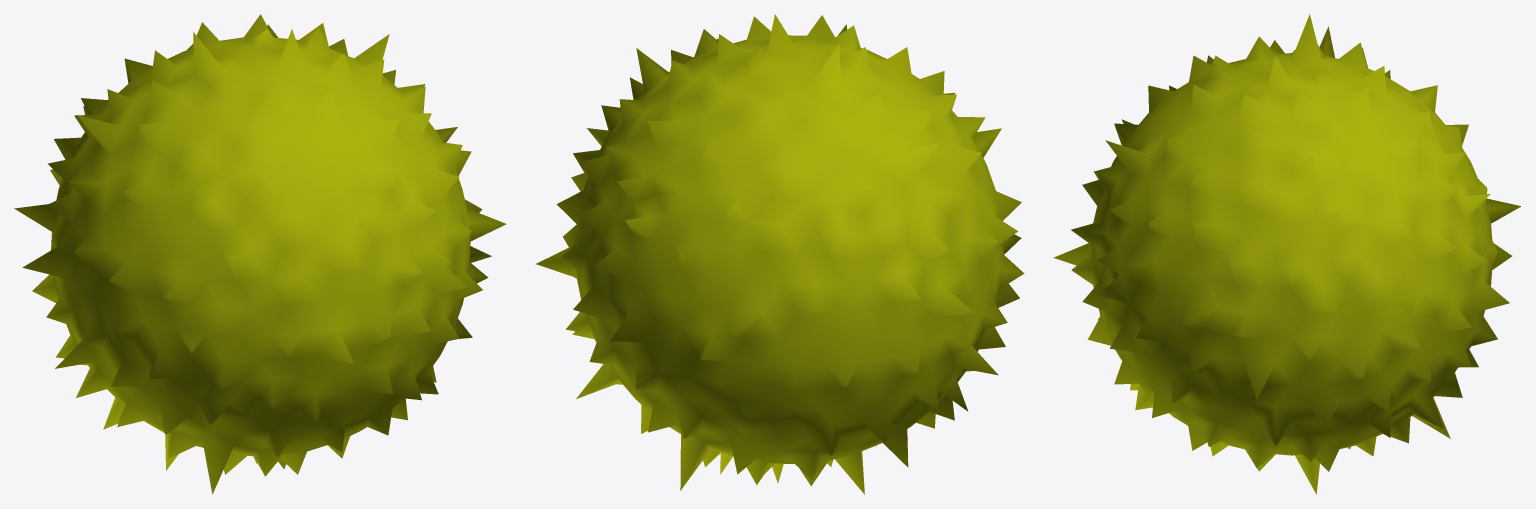
Rendered from ClosedChestnut02.fbx.
3 renders of one model, left to right at view 1: azimuth 30°, elevation 25°; view 2: azimuth 150°, elevation 25°; view 3: azimuth 270°, elevation 25°, orthographic. The views are drawn at different scales.
Visible parts, largest first — view 1: chestnut closed; view 2: chestnut closed; view 3: chestnut closed.
Boxes of the visible parts, x1,y1,x2,y2 form: chestnut closed: (14,14,506,494); chestnut closed: (536,14,1024,494); chestnut closed: (1053,14,1521,494).
Bounding box in the file's own units: 11.64 × 11.73 × 11.63.
